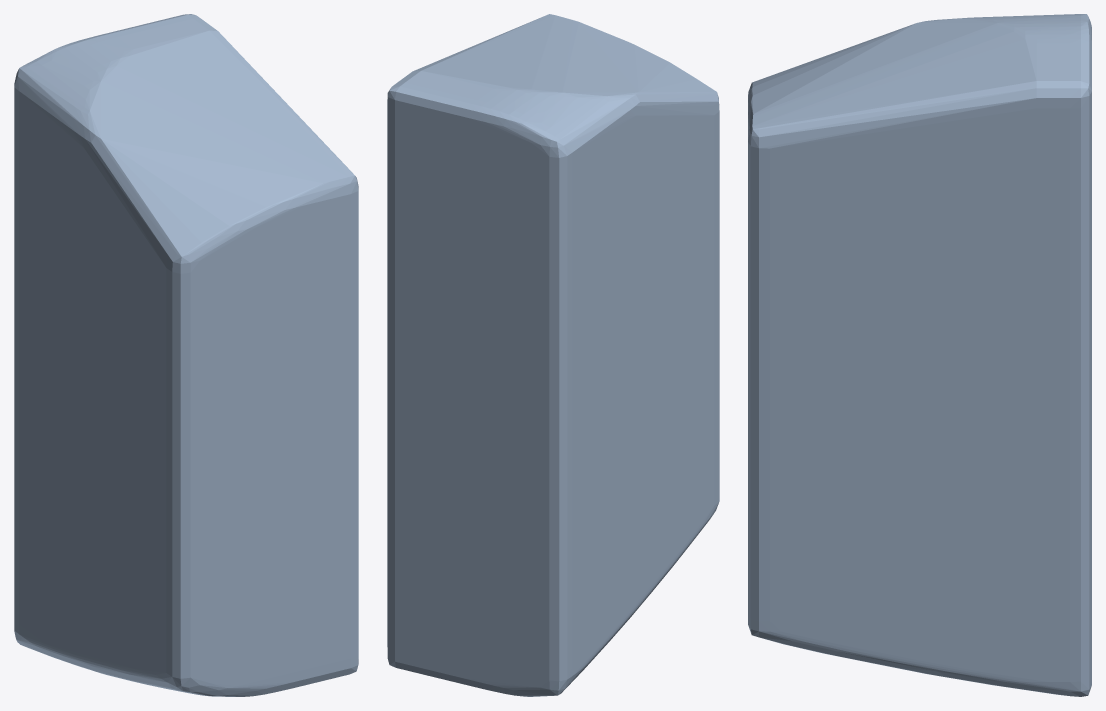
Rendered from left_f_distal_pst_part_6.obj.
3 views of the same model, side by side, from view 1: azimuth 30°, elevation 25°; view 2: azimuth 150°, elevation 25°; view 3: azimuth 270°, elevation 25° (orthographic). The views are drawn at different scales.
Size of the model in its own units: 4.54 by 13.95 by 7.08.
